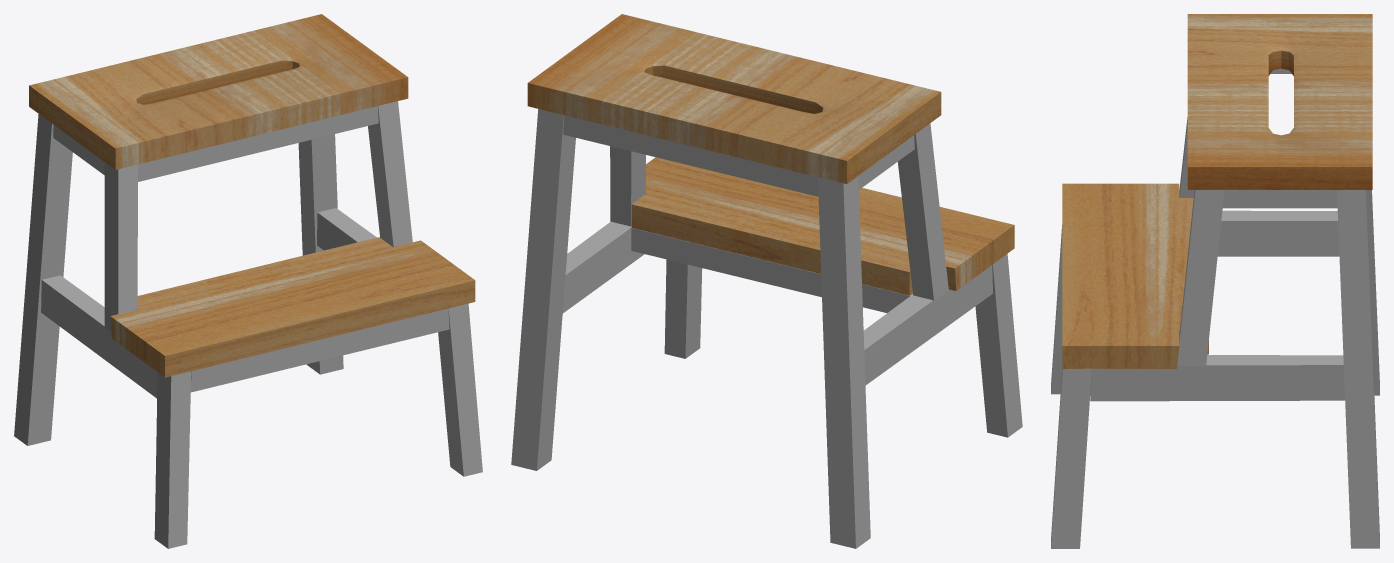
The model's file is uploads_files_2999771_Step+stool.fbx.
3 views of the same model, side by side, from view 1: azimuth 30°, elevation 25°; view 2: azimuth 150°, elevation 25°; view 3: azimuth 270°, elevation 25° (orthographic). The views are drawn at different scales.
Parts seen in each view (by area): view 1: OG; view 2: OG; view 3: OG.
Part boxes in pixels (bbox=[...]): OG: bbox=[14, 14, 482, 548]; OG: bbox=[511, 14, 1022, 548]; OG: bbox=[1051, 14, 1379, 548].
Bounding box in the file's own units: 41.87 × 44.43 × 35.22.
